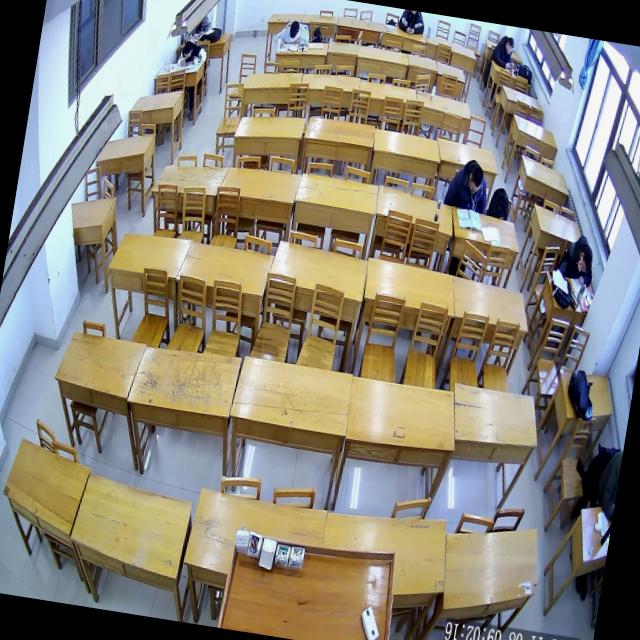bow: (556, 233, 598, 287), (274, 18, 312, 51), (176, 40, 208, 70)
down: (467, 165, 485, 195), (578, 246, 594, 275), (182, 40, 194, 60), (288, 20, 300, 40), (504, 36, 516, 56)
sit: (443, 157, 492, 214), (491, 34, 518, 70)
